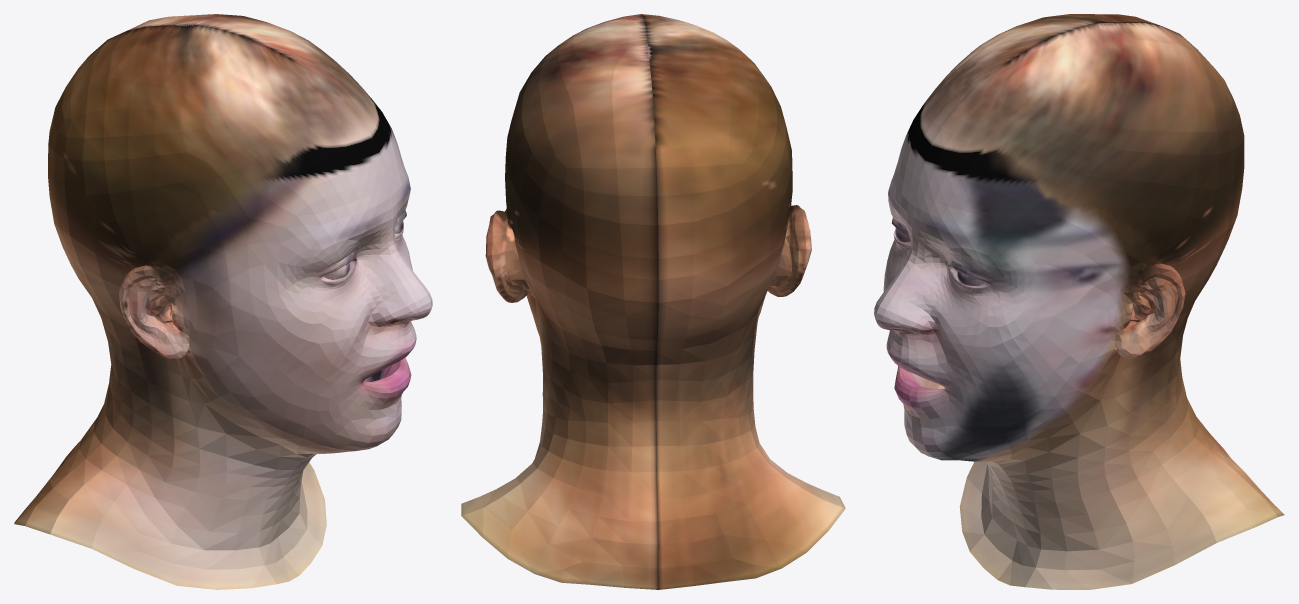
The model's file is cheo1_frame0006.obj.
3 renders of one model, left to right at view 1: azimuth 30°, elevation 25°; view 2: azimuth 150°, elevation 25°; view 3: azimuth 270°, elevation 25°, orthographic.
Bounding box in the file's own units: 0.2147 × 0.3211 × 0.2252.
Materials: 1 (1 with a texture image).
